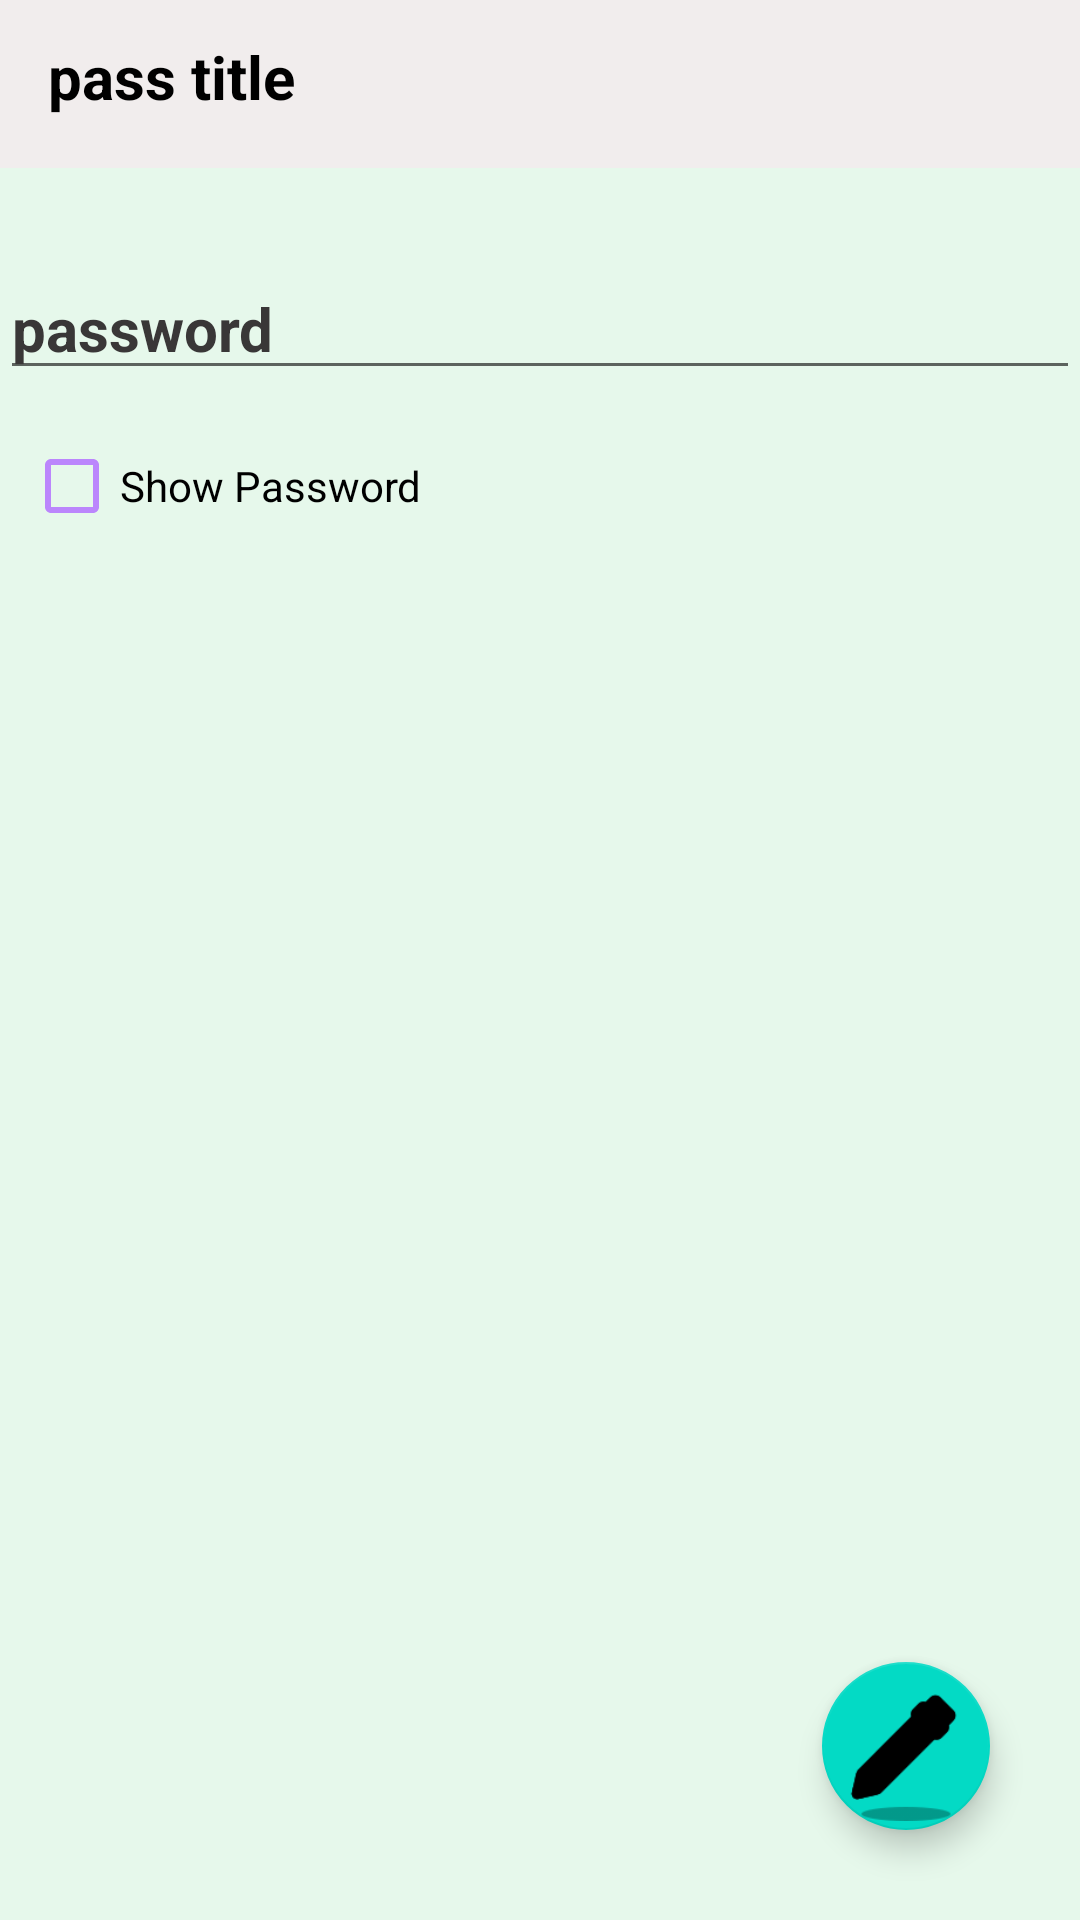

Named icons in this screenshot (1080*1920) and their bounding boxes, (left=x1, top=y1, right=x2, bottom=y2):
edit: (left=822, top=1662, right=990, bottom=1830)
